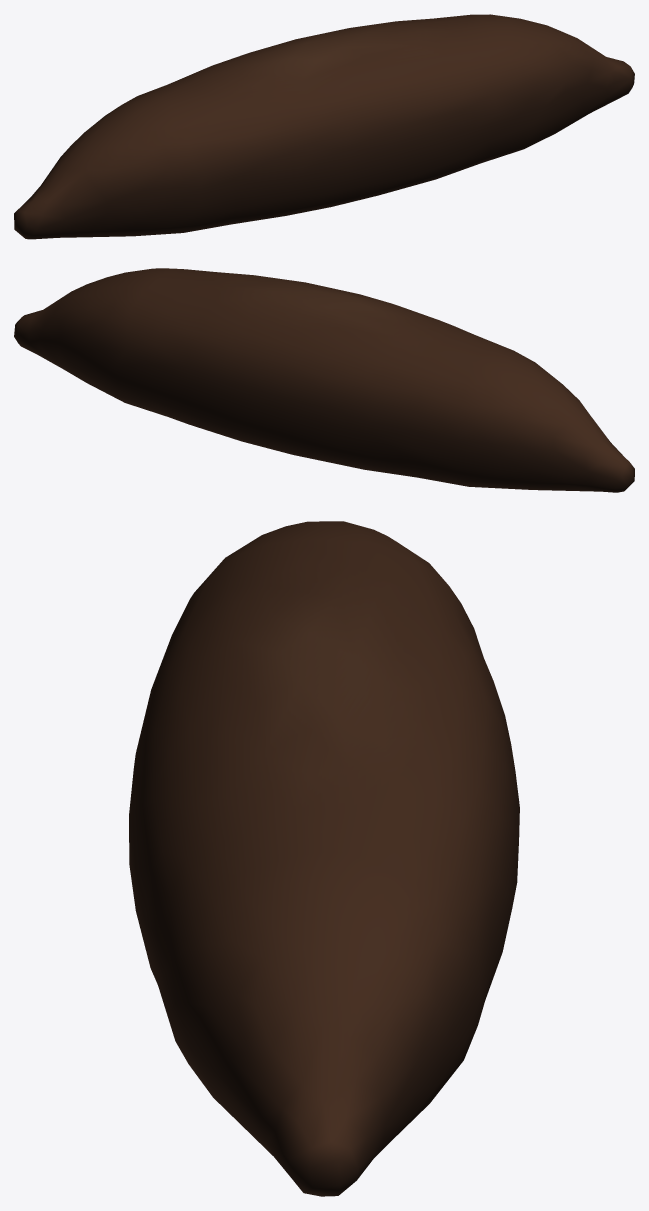
The model's file is banh_chay.glb.
3 views of the same model, one above another, from view 1: azimuth 30°, elevation 25°; view 2: azimuth 150°, elevation 25°; view 3: azimuth 270°, elevation 25° (orthographic). The views are drawn at different scales.
Parts seen in each view (by area): view 1: banh_chay; view 2: banh_chay; view 3: banh_chay.
Boxes of the visible parts, box(x1,y1,x2,y2) form: banh_chay: box(14, 14, 634, 239); banh_chay: box(14, 268, 634, 492); banh_chay: box(129, 521, 519, 1196).
Size of the model in its own units: 0.3631 by 0.0748 by 0.0998.
